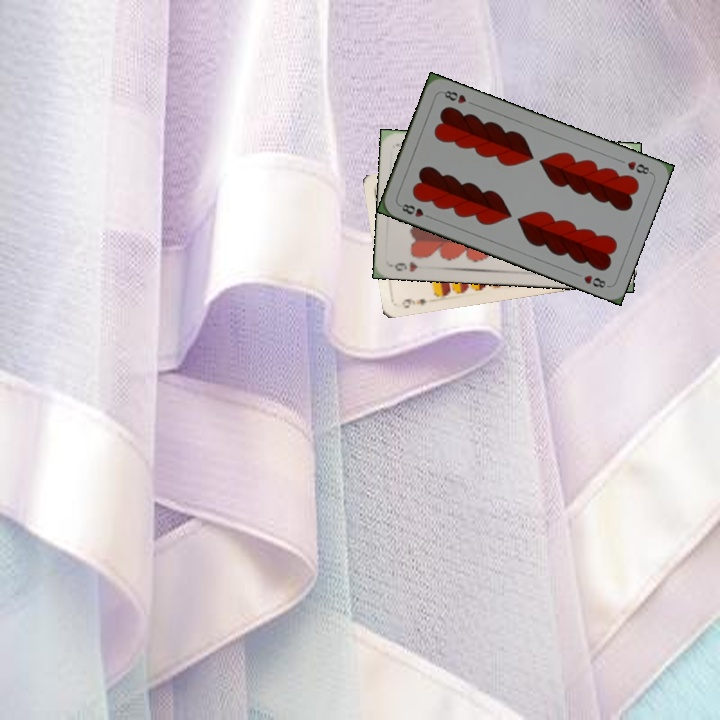E9: (397, 294, 430, 311)
H8: (395, 200, 434, 221), (623, 157, 654, 177)
H9: (391, 257, 421, 274)
